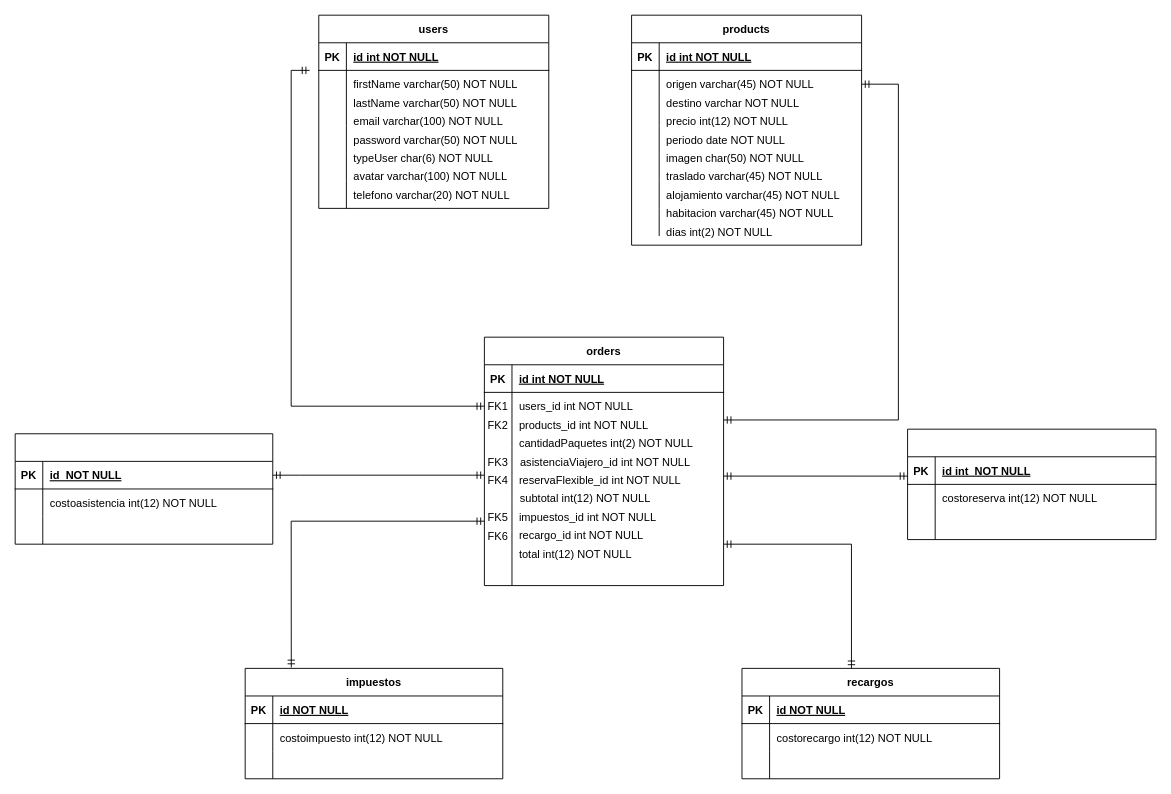
Some shapes in this 1171 by 794 pixel diagram are drawn without their labels. The shapes that lost their labels are listed below. From the top down, each one's box as (x1, y1, x2, y2) in pixels, then its label:
(14, 433, 273, 544): assists_travelers
(907, 428, 1156, 540): flex
